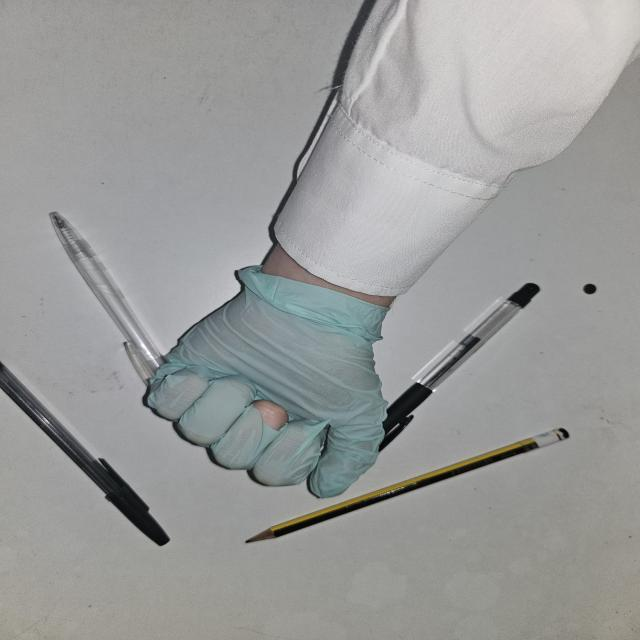gloves_damaged: (140, 260, 382, 501)
